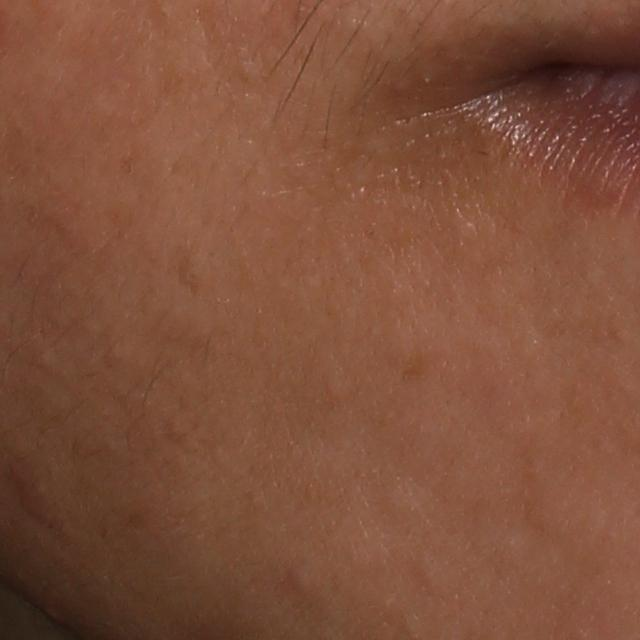comedo: (379, 480, 422, 528), (285, 562, 318, 600)
